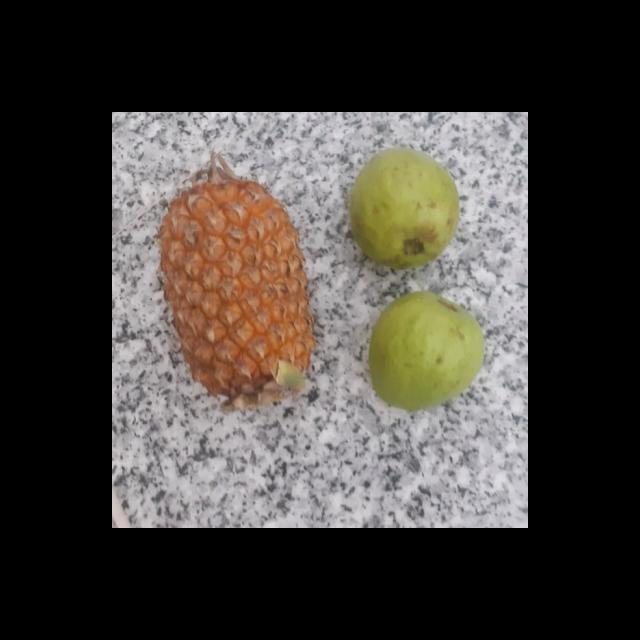guava: (368, 292, 490, 408), (351, 148, 464, 264)
pineapple: (157, 172, 317, 392)
